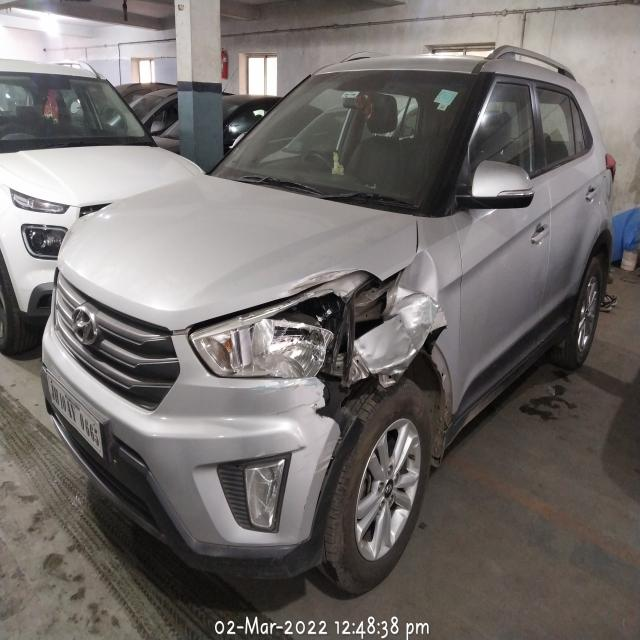damage: (343, 247, 451, 404), (264, 294, 346, 374), (274, 257, 360, 293), (307, 365, 347, 442)
